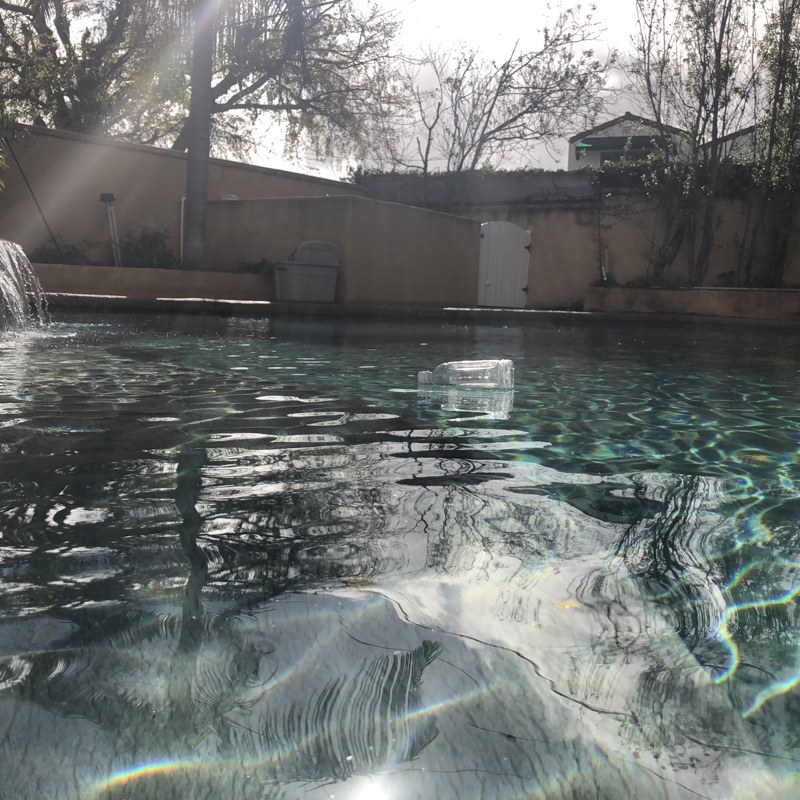Plastic Bottle: (417, 357, 517, 395)
